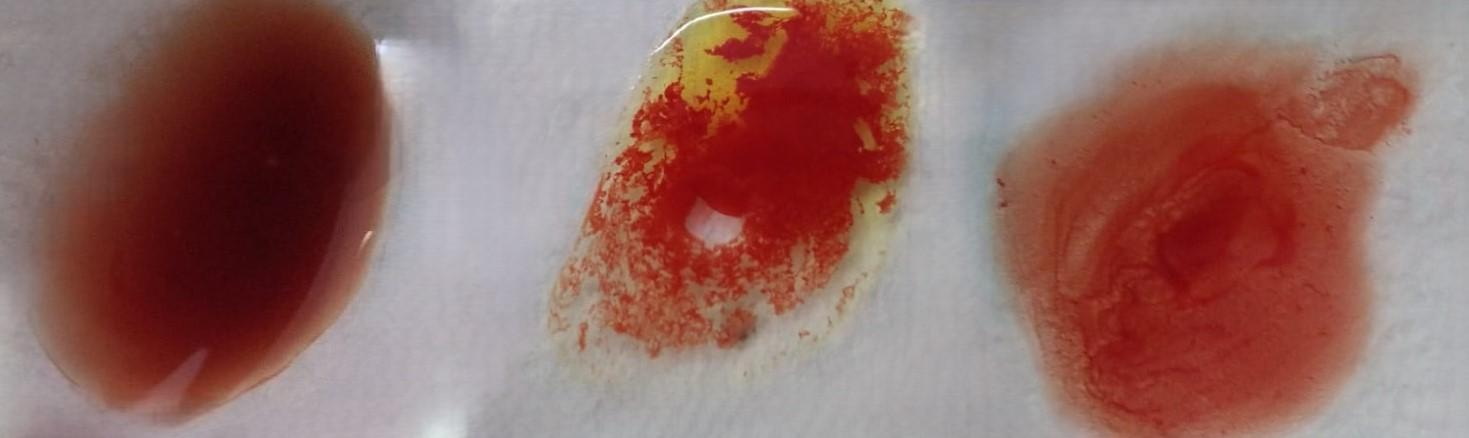B: (610, 10, 898, 406)
D: (1030, 46, 1372, 438)
